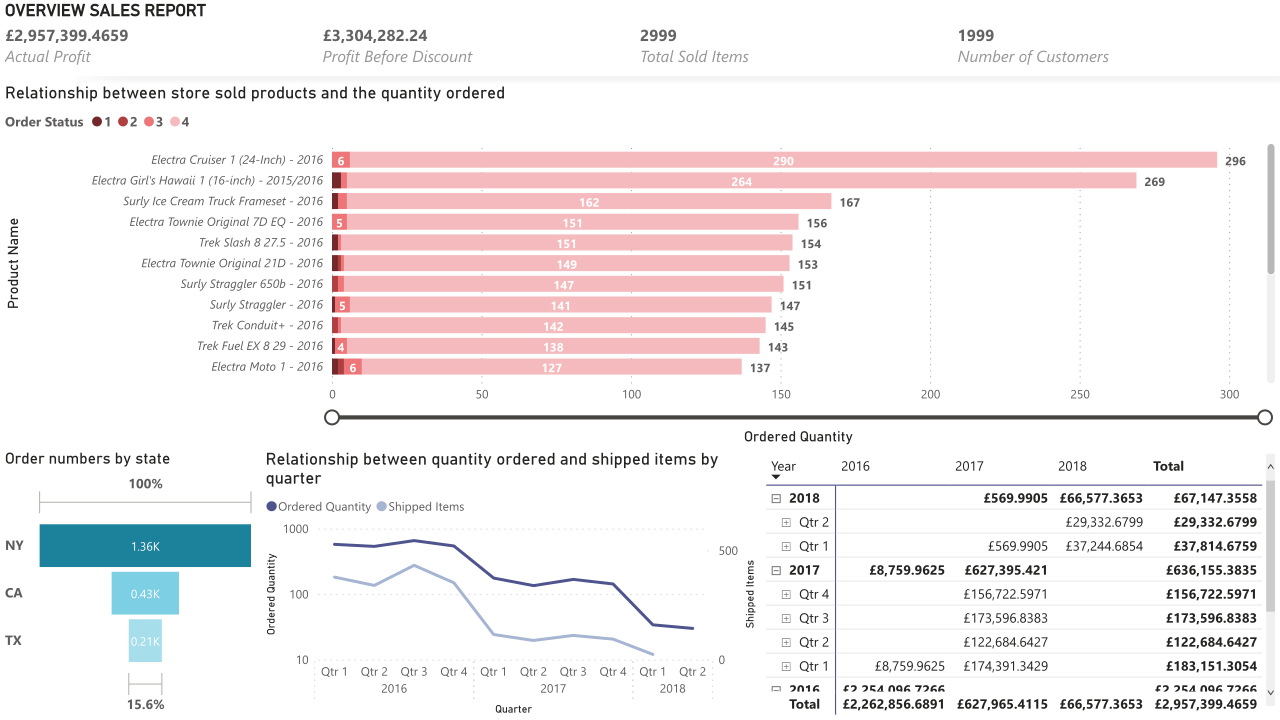

The page's visual inventory and layout, read from the dashboard file:
{"tool":"powerbi","page":{"name":"Page 1","canvas":[1280,720],"ordinal":0},"visuals":[{"type":"barChart","title":"Relationship between  store sold products and the quantity ordered","fields":{"Category":["Query1_Sales_Customers_Data.product_name"],"Y":["Sum(Query1_Sales_Customers_Data.quantity)"],"Series":["Query1_Sales_Customers_Data.order_status"]},"box":[0,82,1280,367],"z":0},{"type":"funnel","title":"Order numbers by state","fields":{"Category":["Query1_Sales_Customers_Data.state"],"Y":["CountNonNull(Query1_Sales_Customers_Data.order_id)"]},"box":[0,449,261,271],"z":1000},{"type":"multiRowCard","title":"OVERVIEW SALES REPORT","fields":{"Values":["Sum(Query1_Sales_Customers_Data.total_after_disc)","Sum(Query1_Sales_Customers_Data.total_before_disc)","Sum(Query1_Sales_Customers_Data.quantity)","CountNonNull(Query1_Sales_Customers_Data.customer_id)"]},"box":[0,0,1280,71],"z":2000},{"type":"pivotTable","fields":{"Rows":["Query1_Sales_Customers_Data.required_date.Variation.Date Hierarchy.Year","Query1_Sales_Customers_Data.required_date.Variation.Date Hierarchy.Quarter","Query1_Sales_Customers_Data.required_date.Variation.Date Hierarchy.Month","Query1_Sales_Customers_Data.required_date.Variation.Date Hierarchy.Day"],"Values":["Sum(Query1_Sales_Customers_Data.total_after_disc)"],"Columns":["Query1_Sales_Customers_Data.order_date.Variation.Date Hierarchy.Year","Query1_Sales_Customers_Data.order_date.Variation.Date Hierarchy.Quarter","Query1_Sales_Customers_Data.order_date.Variation.Date Hierarchy.Month","Query1_Sales_Customers_Data.order_date.Variation.Date Hierarchy.Day"]},"box":[761,449,519,271],"z":3000},{"type":"lineChart","title":"Relationship between quantity ordered and shipped items by quarter","fields":{"Category":["Query1_Sales_Customers_Data.order_date.Variation.Date Hierarchy.Year","Query1_Sales_Customers_Data.order_date.Variation.Date Hierarchy.Quarter"],"Y":["Sum(Query1_Sales_Customers_Data.quantity)"],"Y2":["CountNonNull(Query1_Sales_Customers_Data.shipped_date)"]},"box":[261,449,500,271],"z":4000}]}

Visuals, with their boxes in screenshot pixels (x1, y1, x2, y2), scaled from the page's 1280x720 canvas onto the 1280x720 screenshot:
"Relationship between  store sold products and the quantity ordered" barChart: 0,82,1279,449
"Order numbers by state" funnel: 0,449,261,719
"OVERVIEW SALES REPORT" multiRowCard: 0,0,1279,71
pivotTable - Query1_Sales_Customers_Data.required_date.Variation.Date Hierarchy.Year x Query1_Sales_Customers_Data.required_date.Variation.Date Hierarchy.Quarter: 761,449,1279,719
"Relationship between quantity ordered and shipped items by quarter" lineChart: 261,449,761,719
